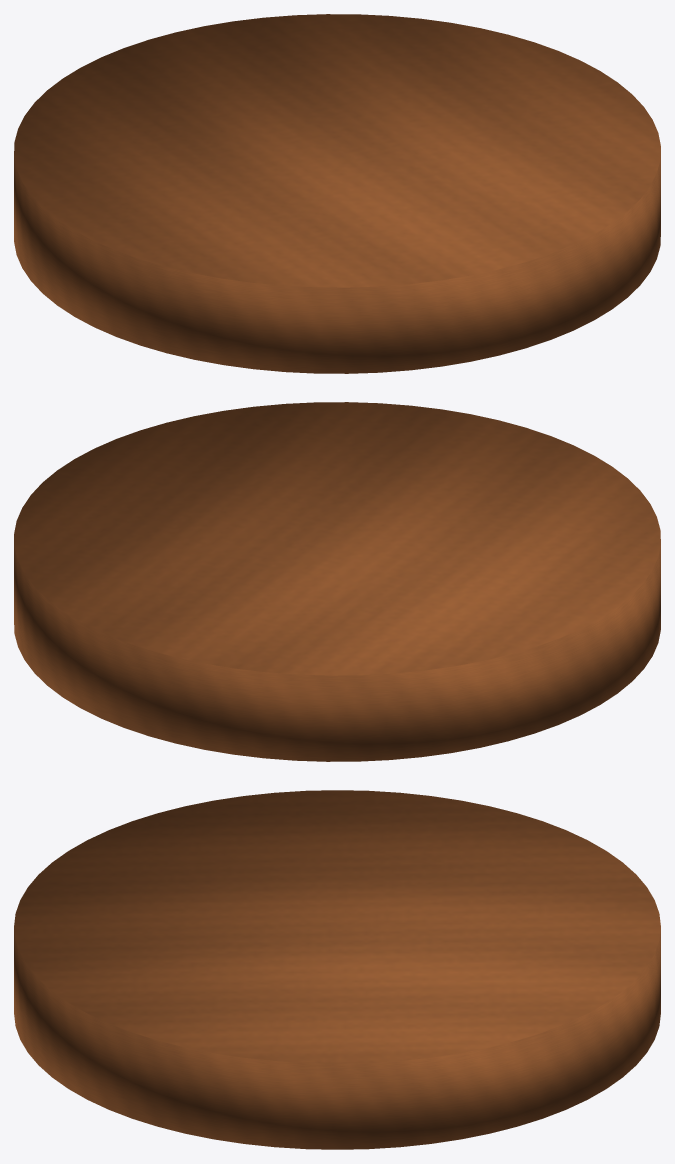
The model's file is display-stand.glb.
3 renders of one model, top to bottom at view 1: azimuth 30°, elevation 25°; view 2: azimuth 150°, elevation 25°; view 3: azimuth 270°, elevation 25°, orthographic.
Visible parts, largest first — view 1: Display stand; view 2: Display stand; view 3: Display stand.
Part boxes in pixels (bbox=[...]): Display stand: bbox=[14, 14, 660, 373]; Display stand: bbox=[14, 402, 660, 761]; Display stand: bbox=[14, 790, 660, 1149].
Size of the model in its own units: 1.02 by 0.15 by 1.02.
1 material, 1 textured.
